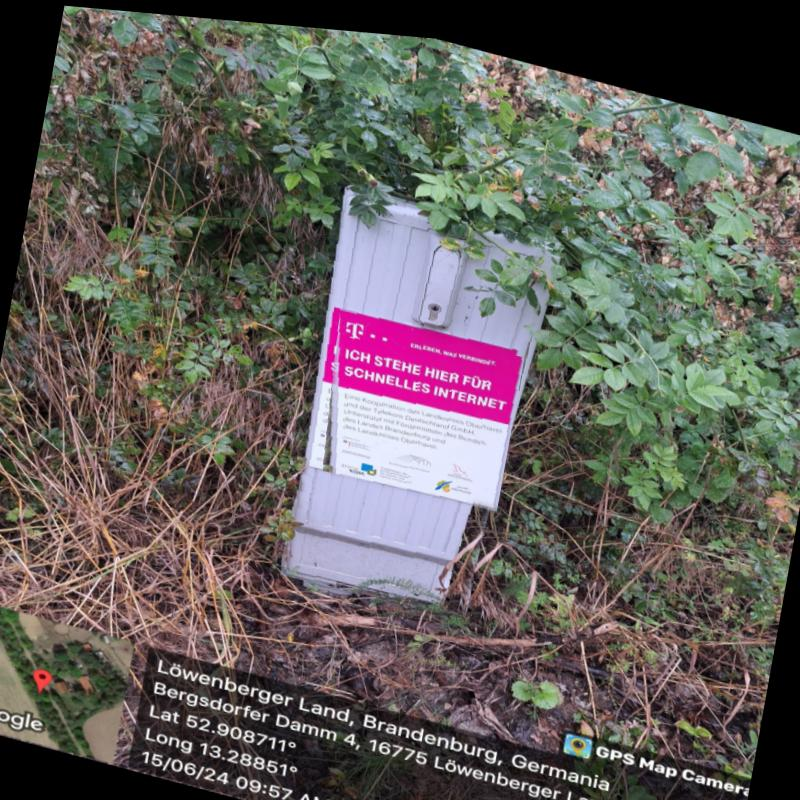NT-Gehause: (270, 174, 555, 626)
Steaker: (329, 303, 524, 502)
